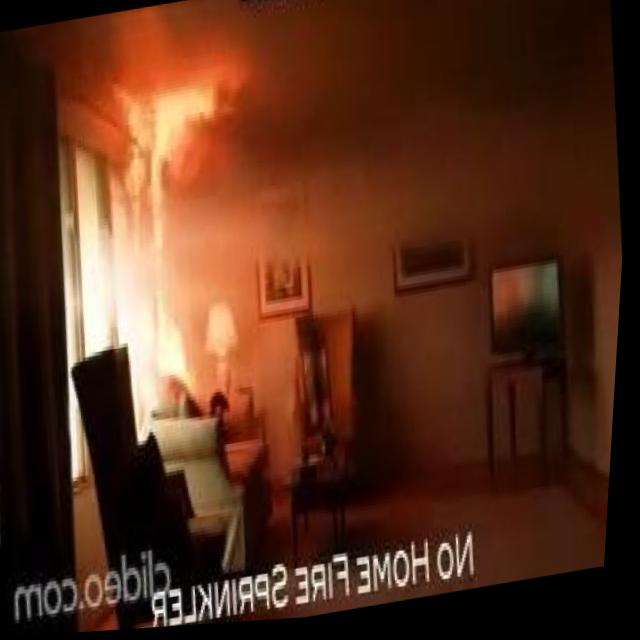fire: (104, 73, 250, 261), (150, 242, 198, 376)
